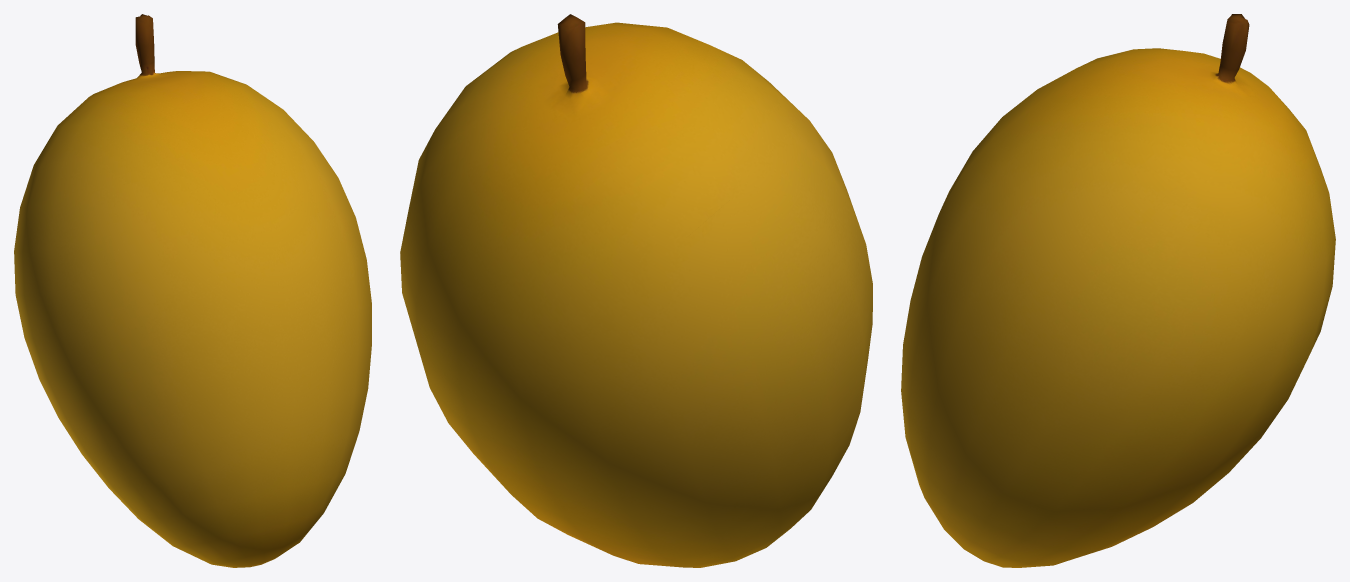
Rendered from mango-300T.fbx.
3 renders of one model, left to right at view 1: azimuth 30°, elevation 25°; view 2: azimuth 150°, elevation 25°; view 3: azimuth 270°, elevation 25°, orthographic. The views are drawn at different scales.
Parts seen in each view (by area): view 1: tripo_node_0846d53f; view 2: tripo_node_0846d53f; view 3: tripo_node_0846d53f.
Boxes of the visible parts, x1,y1,x2,y2 form: tripo_node_0846d53f: [14, 14, 371, 567]; tripo_node_0846d53f: [400, 14, 872, 567]; tripo_node_0846d53f: [901, 14, 1335, 567].
Bounding box in the file's own units: 0.6656 × 0.9993 × 0.7277.
Materials: 1 (1 with a texture image).
